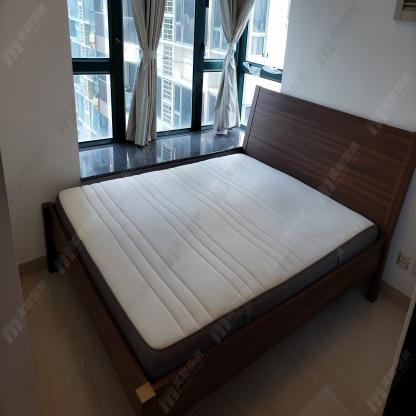Bed: (41, 84, 416, 416)
Windowsill: (67, 0, 291, 178)
